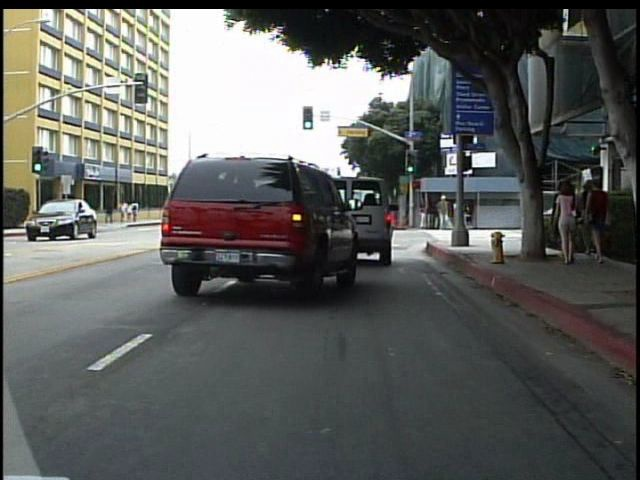person: (585, 175, 616, 267), (550, 178, 581, 269), (436, 191, 453, 233), (76, 197, 94, 225)
